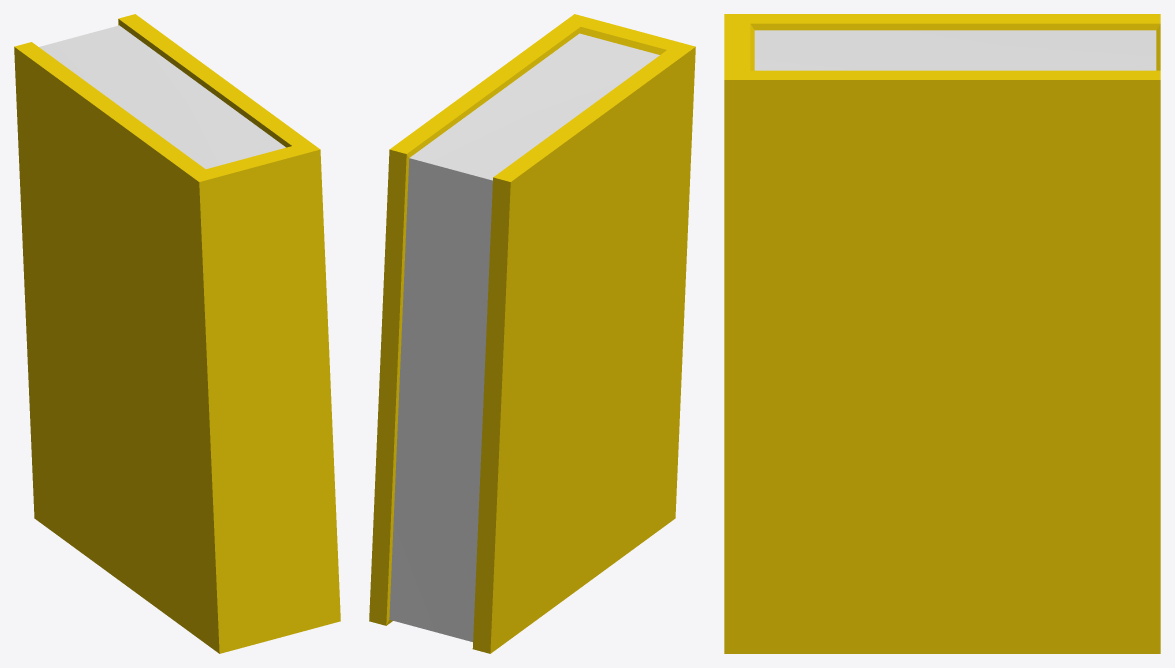
Rendered from Livro1.fbx.
3 views of the same model, side by side, from view 1: azimuth 30°, elevation 25°; view 2: azimuth 150°, elevation 25°; view 3: azimuth 270°, elevation 25° (orthographic). The views are drawn at different scales.
Parts seen in each view (by area): view 1: Bookshelf.002; view 2: Bookshelf.002; view 3: Bookshelf.002.
Part boxes in pixels (box(x1,y1,x2,y2)): Bookshelf.002: box(14, 14, 340, 653); Bookshelf.002: box(369, 14, 695, 653); Bookshelf.002: box(724, 14, 1160, 653).
Bounding box in the file's own units: 9.99 × 32.34 × 22.61.
